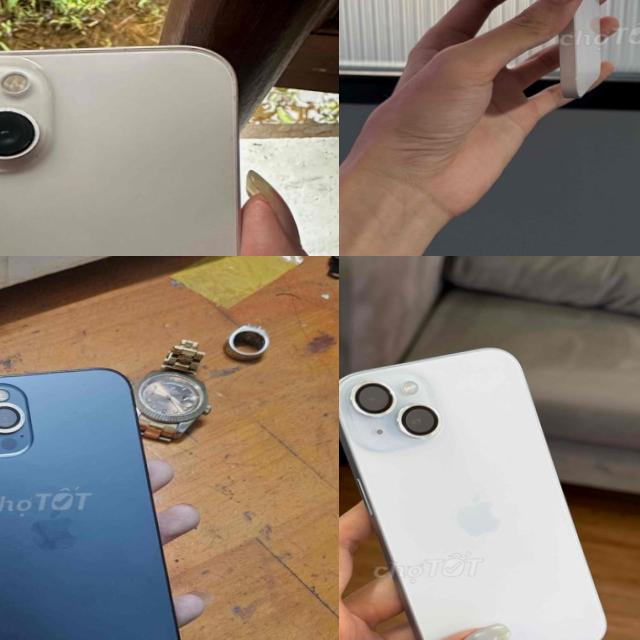gen_12_13: (0, 43, 248, 256), (0, 364, 188, 640), (531, 0, 619, 96)
gen_15: (339, 331, 631, 640)
